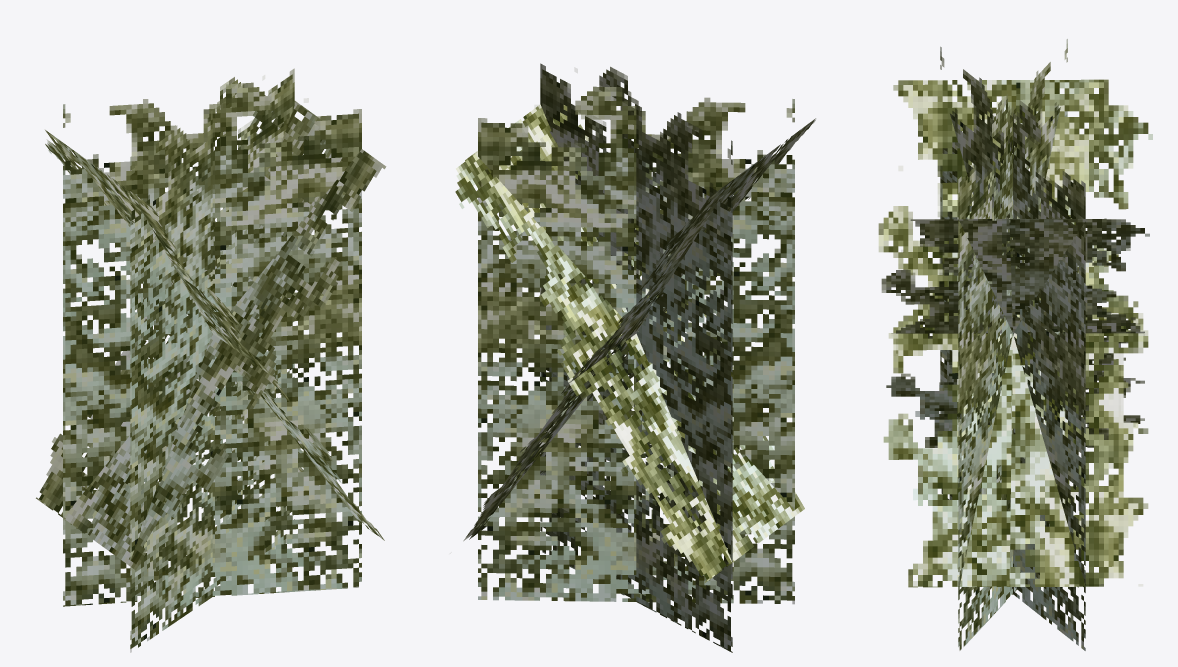
File: bush_tall_half_full_overgrown_winter.glb
The picture shows the model from 3 angles, left to right: view 1: azimuth 30°, elevation 25°; view 2: azimuth 150°, elevation 25°; view 3: azimuth 270°, elevation 25°; orthographic projection. The views are drawn at different scales.
Visible parts, largest first — view 1: bush_tall_half_full_overgrown_winter; view 2: bush_tall_half_full_overgrown_winter; view 3: bush_tall_half_full_overgrown_winter.
Boxes of the visible parts, x1=… form: bush_tall_half_full_overgrown_winter: x1=36, y1=68, x2=386, y2=652; bush_tall_half_full_overgrown_winter: x1=455, y1=63, x2=815, y2=652; bush_tall_half_full_overgrown_winter: x1=878, y1=39, x2=1152, y2=650.
Bounding box in the file's own units: 1 × 2.06 × 1.08.
1 material, 1 textured.
